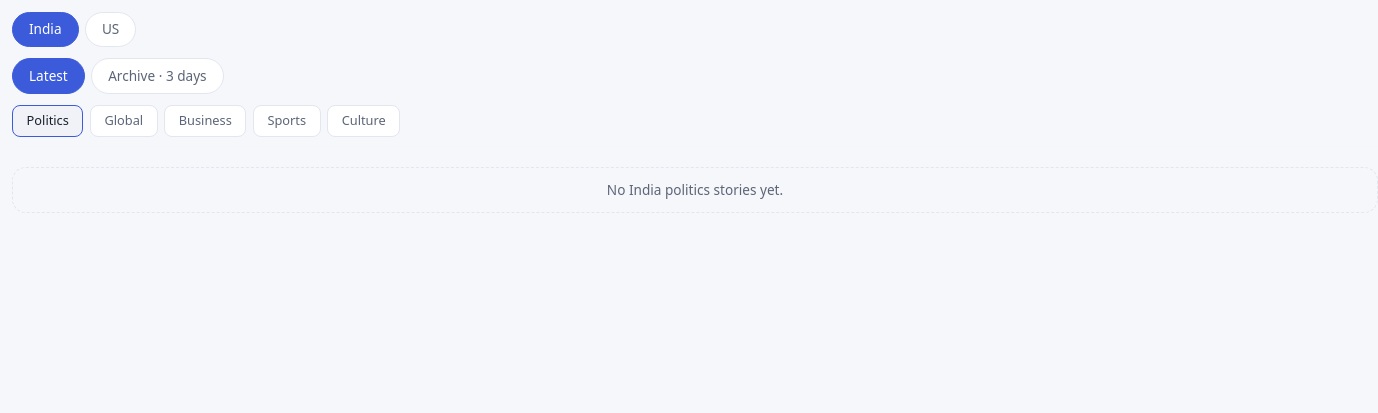
Test: StoriesFeed — Latest/Archive window › Archive shows every run_date in the window
Click the tab "Business": (205, 121) x1=164 y1=105 x2=246 y2=137
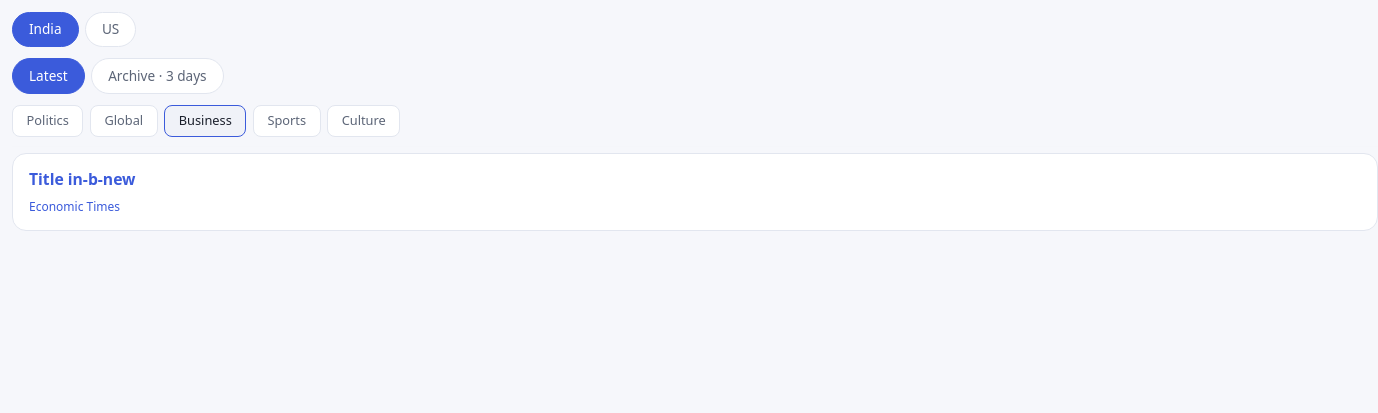
Click the tab "Archive · 3 days": (157, 76) x1=91 y1=58 x2=224 y2=94
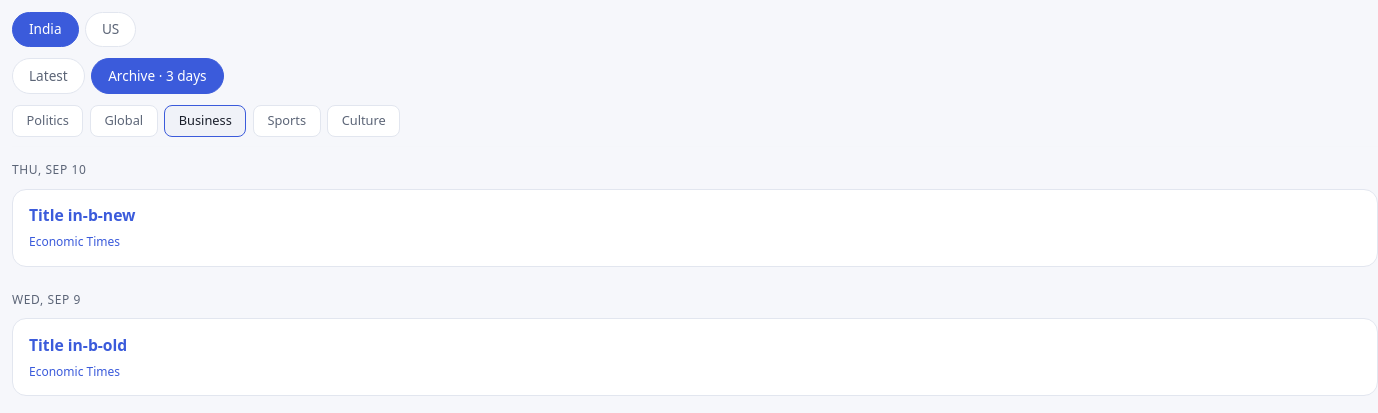
Now the link "Title in-b-new" is shown, box x1=29 y1=204 x2=136 y2=226
Now the link "Title in-b-old" is shown, box x1=29 y1=334 x2=127 y2=356
